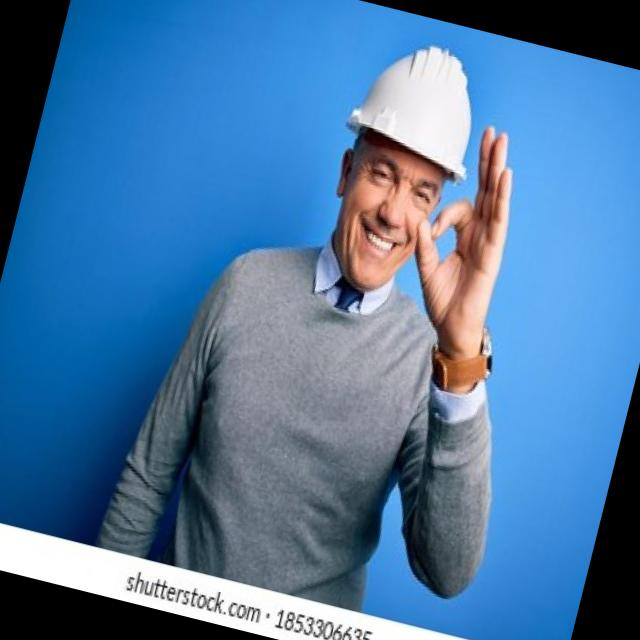Helmet: (323, 18, 518, 178)
